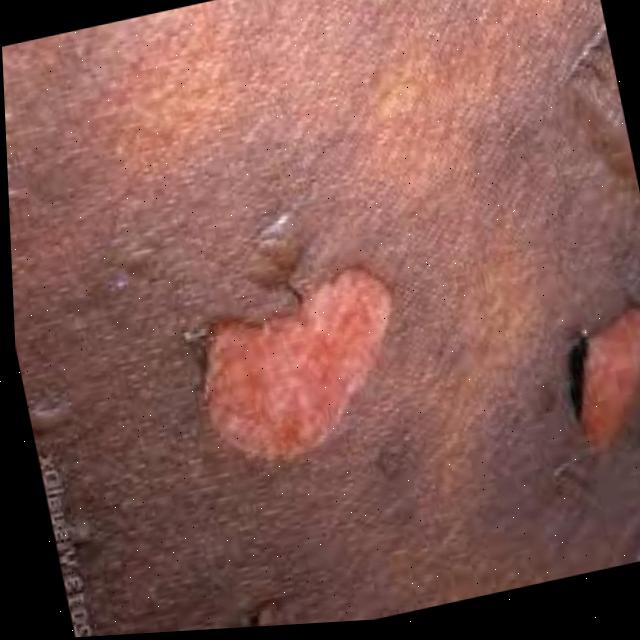Eczema: (181, 245, 422, 466), (555, 290, 640, 437)
